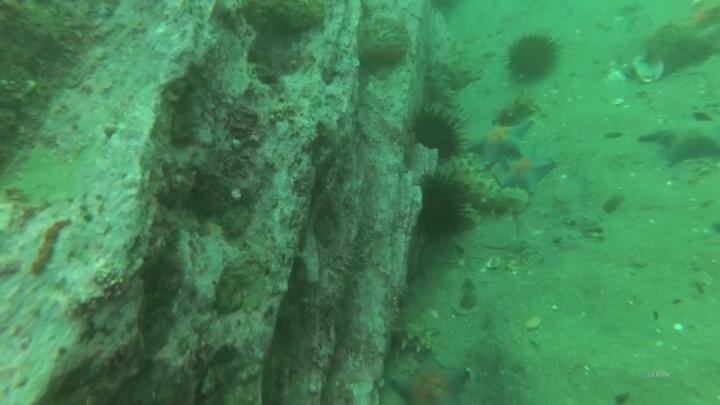echinus: (413, 170, 471, 243), (408, 105, 467, 162), (502, 30, 562, 85)
holothurian: (448, 159, 531, 219), (391, 316, 441, 357), (422, 58, 459, 111), (492, 91, 541, 129)
starfish: (387, 349, 472, 405), (636, 113, 720, 169), (467, 117, 535, 168), (497, 144, 557, 196)
